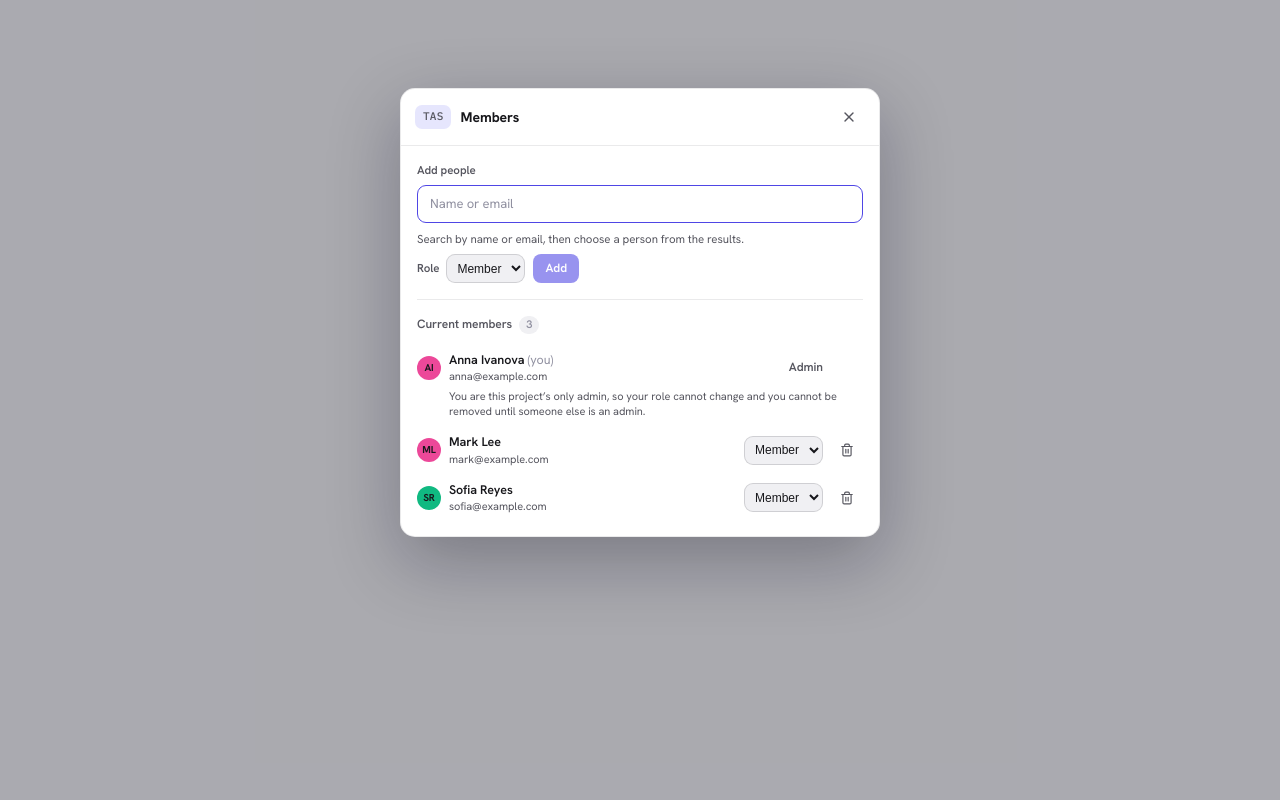
Test: ProjectMembersModal › words an empty answer by who is reading: a global admin is sent to Administration › Users
Expected: the text "Mark Lee" is shown, [449,433,501,450]
Type "zoe" into the dropdown labelled "Add people" at (640, 204), box [417,185,863,223]
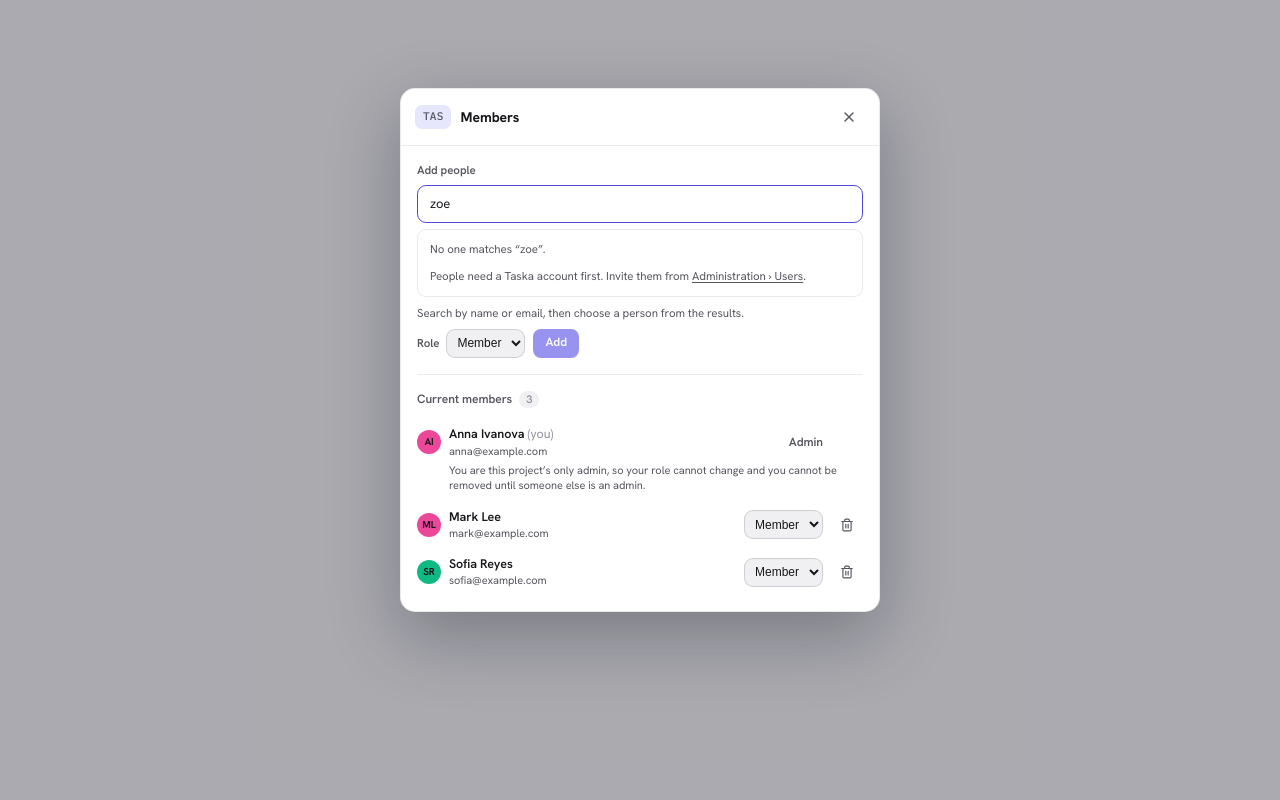
Result: the text "No one matches “zoe”." is shown at [430,241,546,256]
